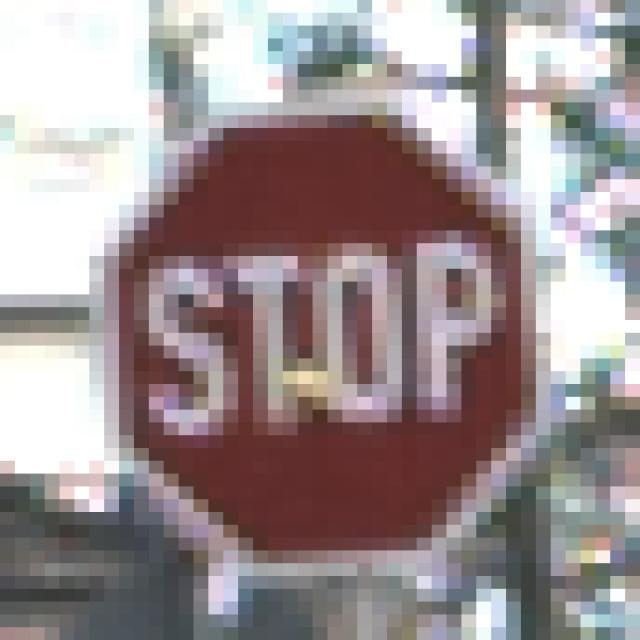STOP: (90, 78, 567, 564)
